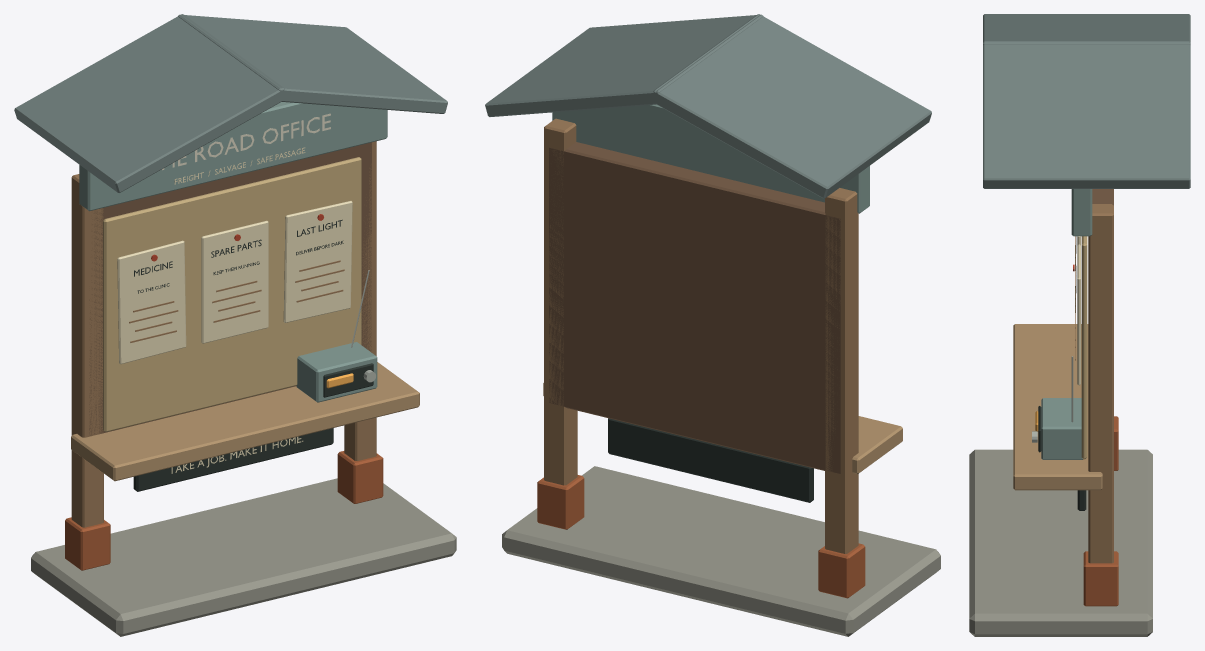
The model's file is freight_kiosk.glb.
The picture shows the model from 3 angles, left to right: view 1: azimuth 30°, elevation 25°; view 2: azimuth 150°, elevation 25°; view 3: azimuth 270°, elevation 25°; orthographic projection. The views are drawn at different scales.
Visible parts, largest first — view 1: Body_freight_kiosk, Roof_freight_kiosk; view 2: Body_freight_kiosk, Roof_freight_kiosk; view 3: Body_freight_kiosk, Roof_freight_kiosk.
Part boxes in pixels (x1,y1,x2,y2): Body_freight_kiosk: (31,102,456,636); Roof_freight_kiosk: (14,14,447,192); Body_freight_kiosk: (502,104,940,636); Roof_freight_kiosk: (485,14,931,198); Body_freight_kiosk: (969,189,1152,636); Roof_freight_kiosk: (983,14,1190,188).
Size of the model in its own units: 2.5 by 3.54 by 1.38.
